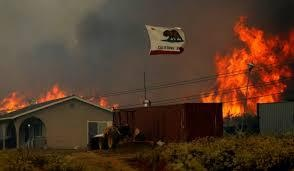fire: (201, 17, 293, 118), (0, 82, 67, 112)
